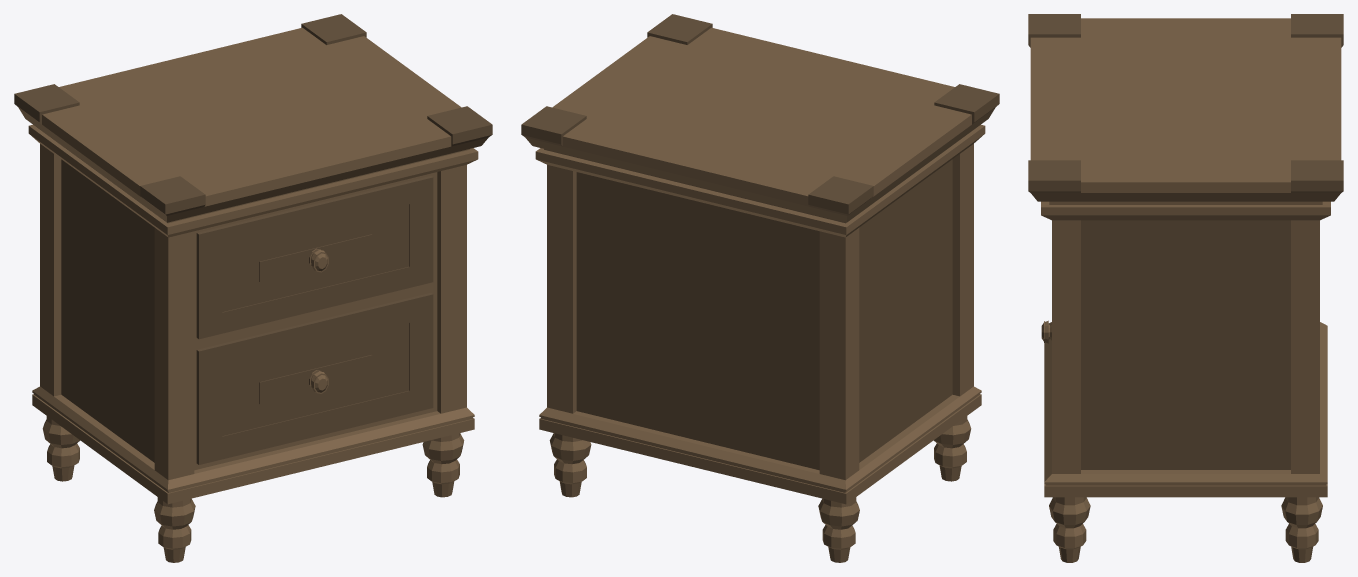
Rendered from furn-nightstand-2drawer.glb.
The picture shows the model from 3 angles, left to right: view 1: azimuth 30°, elevation 25°; view 2: azimuth 150°, elevation 25°; view 3: azimuth 270°, elevation 25°; orthographic projection. The views are drawn at different scales.
Visible parts, largest first — view 1: Nightstand, BottomDrawer, TopDrawer; view 2: Nightstand; view 3: Nightstand.
Part boxes in pixels (x1,y1,x2,y2): Nightstand: (14, 14, 492, 562); BottomDrawer: (196, 292, 433, 464); TopDrawer: (196, 176, 433, 339); Nightstand: (521, 14, 999, 562); Nightstand: (1028, 14, 1343, 562).
Bounding box in the file's own units: 0.5 × 0.55 × 0.4.
